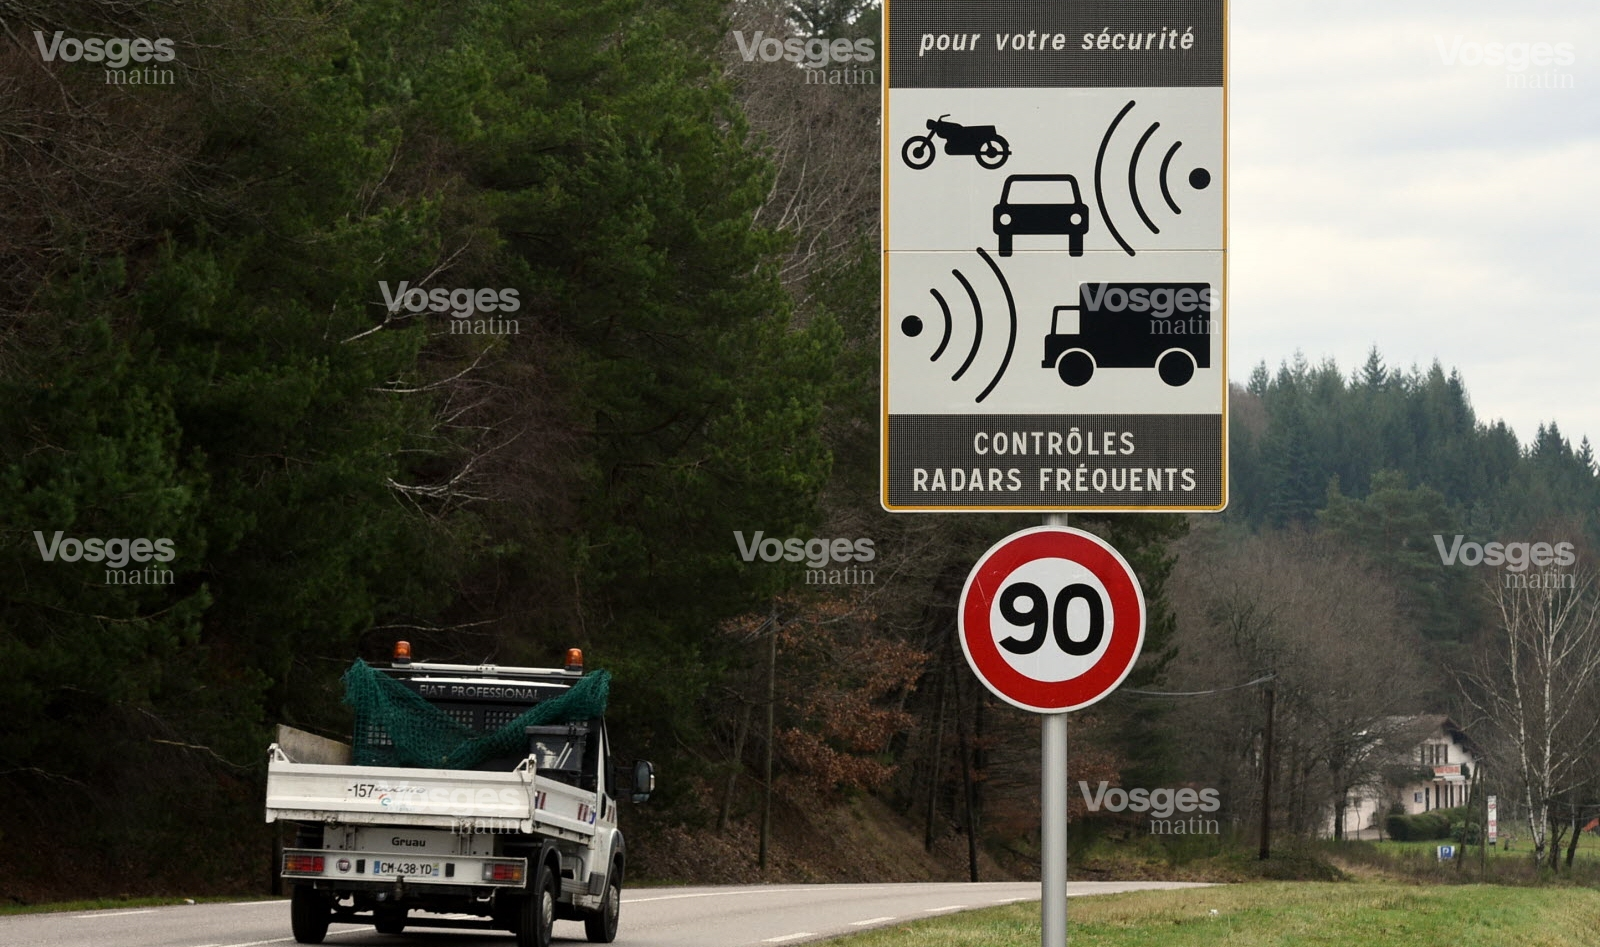Speed_limit_90km: (953, 526, 1153, 713)
